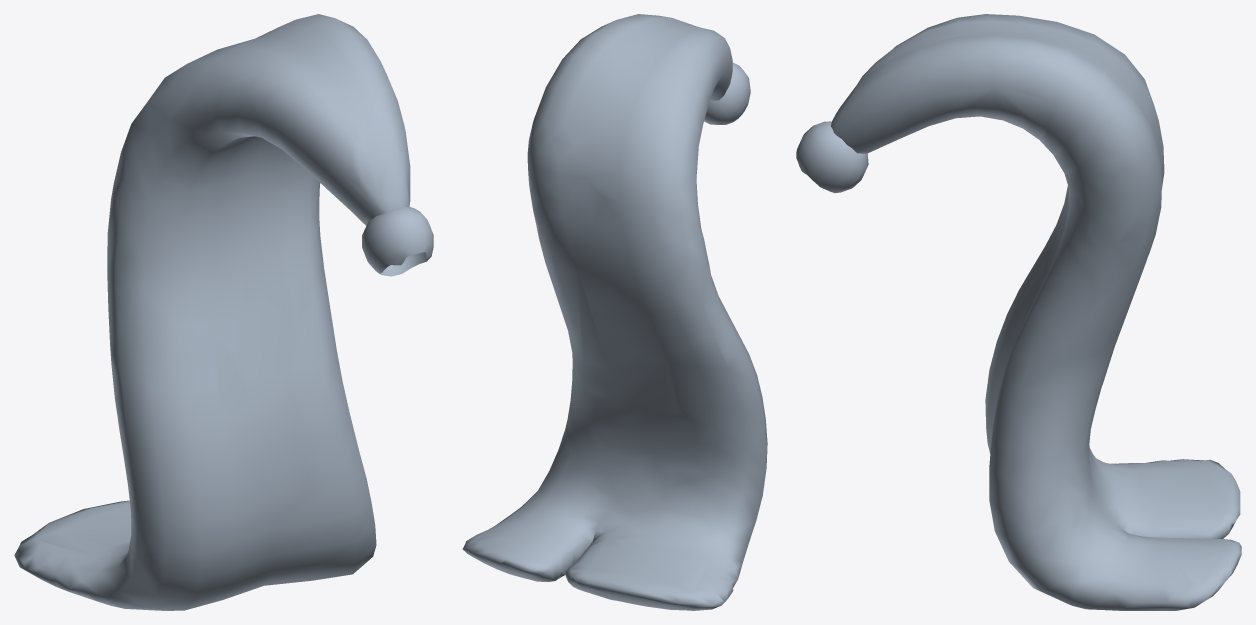
The model's file is Tail_07.fbx.
3 views of the same model, side by side, from view 1: azimuth 30°, elevation 25°; view 2: azimuth 150°, elevation 25°; view 3: azimuth 270°, elevation 25° (orthographic). The views are drawn at different scales.
Parts seen in each view (by area): view 1: Tail_07; view 2: Tail_07; view 3: Tail_07.
Boxes of the visible parts, x1,y1,x2,y2 form: Tail_07: (14, 14, 433, 610); Tail_07: (462, 14, 767, 610); Tail_07: (796, 14, 1241, 610).
Size of the model in its own units: 1.58 by 2.9 by 2.13.
